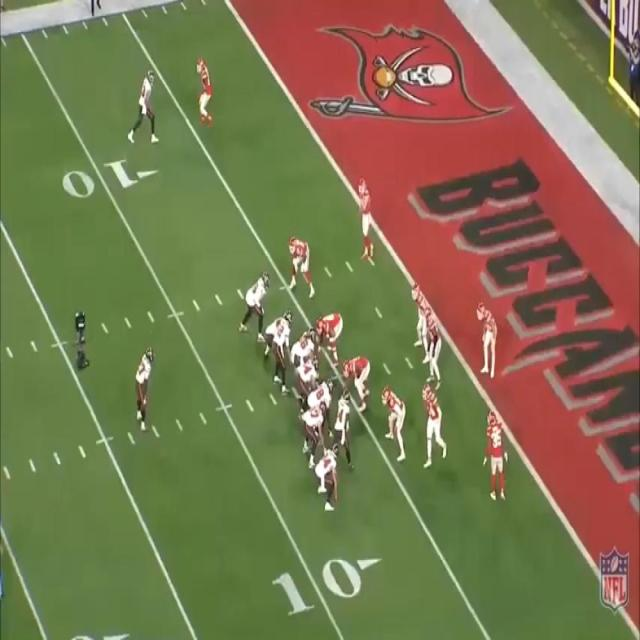center: (292, 326, 318, 374)
db: (356, 178, 376, 260), (476, 301, 496, 377), (482, 412, 502, 482), (198, 60, 214, 122)
lb: (422, 385, 444, 460), (426, 309, 442, 384), (412, 276, 424, 348)
qb: (271, 312, 294, 395)
skill: (130, 70, 156, 138), (320, 437, 342, 497), (133, 350, 149, 420), (303, 399, 327, 445), (334, 387, 351, 437)
